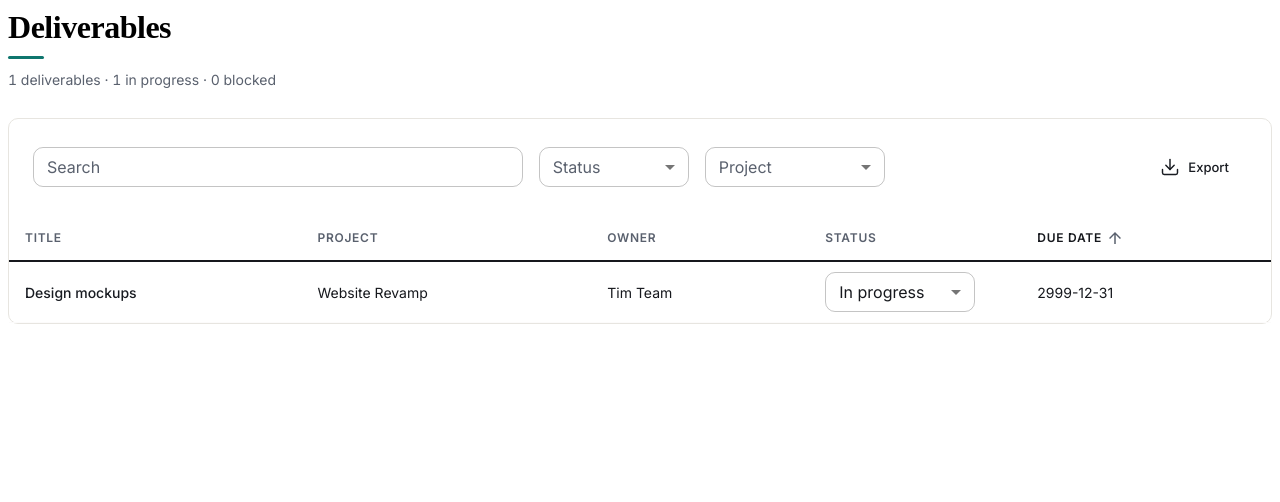
it: Deliverables page › inline status updates › lets a team member change the status of a deliverable they own
Expected: the link "Design mockups" is shown, [25,284,137,301]
Click the dropdown labelled "In progress". click: (882, 292)
box: [839,282,924,302]
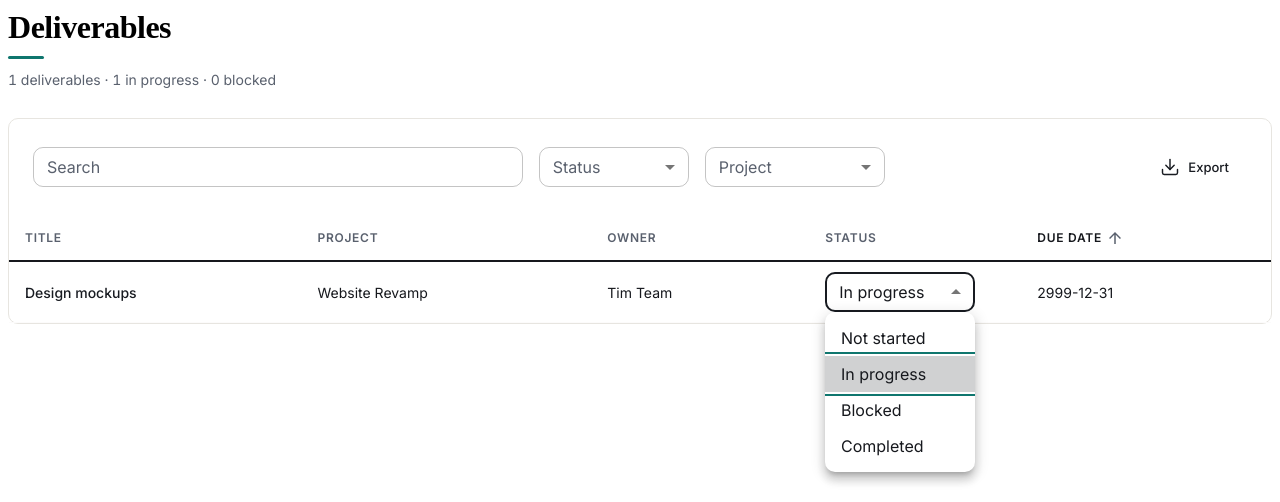
Click the option "Completed". click: (882, 446)
box: [841,436,924,456]
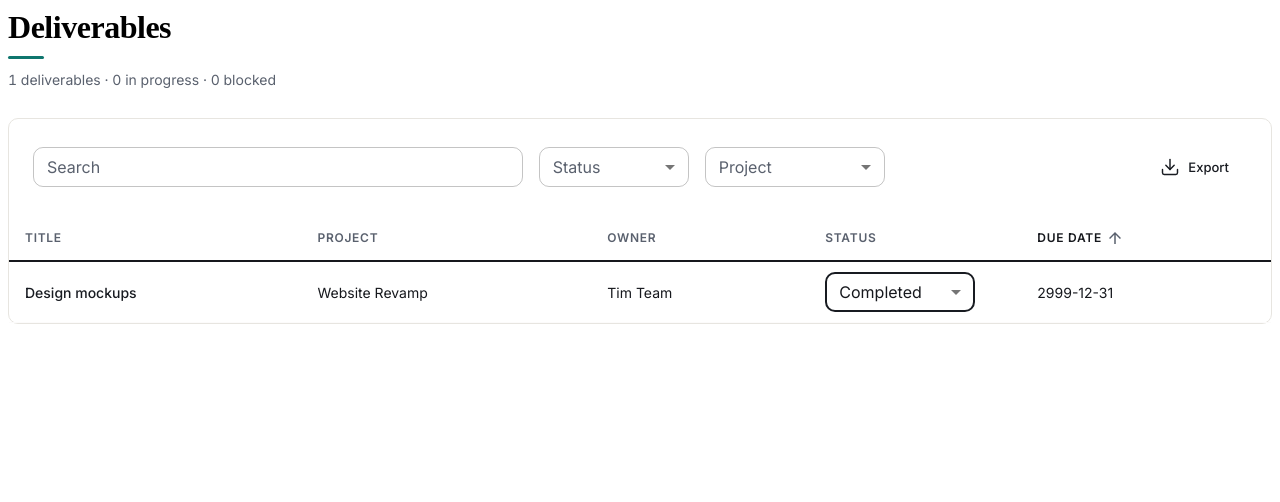
Now the dropdown labelled "Completed" is shown, box [839,282,922,302]
